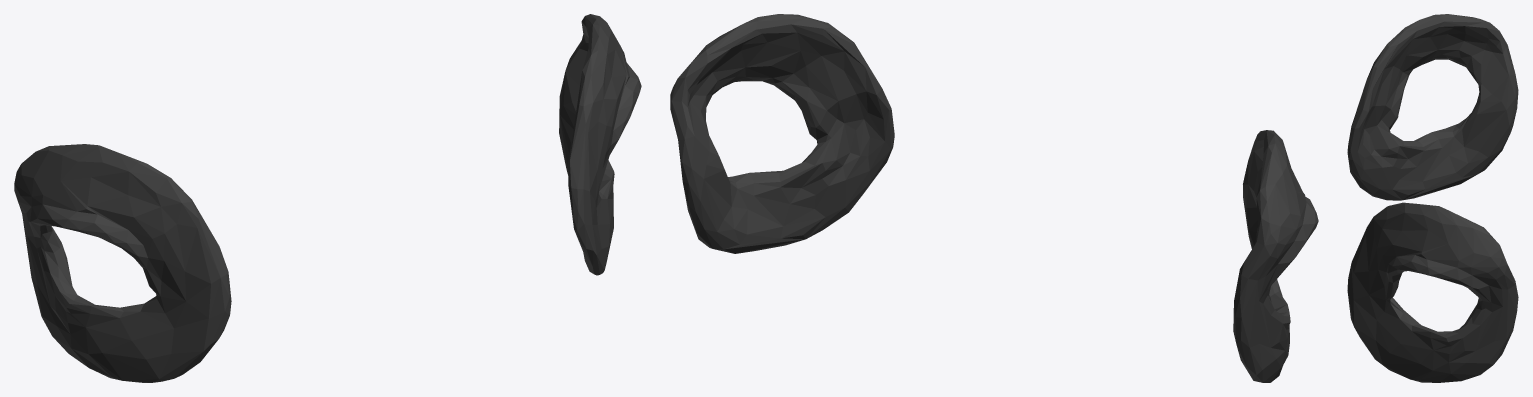
File: m_orbicularis_oculi.glb
3 views of the same model, side by side, from view 1: azimuth 30°, elevation 25°; view 2: azimuth 150°, elevation 25°; view 3: azimuth 270°, elevation 25° (orthographic). The views are drawn at different scales.
Visible parts, largest first — view 1: m_orbicularis_oculi; view 2: m_orbicularis_oculi; view 3: m_orbicularis_oculi.
Part boxes in pixels (x1=…): m_orbicularis_oculi: x1=14, y1=14, x2=641, y2=382; m_orbicularis_oculi: x1=670, y1=14, x2=1318, y2=382; m_orbicularis_oculi: x1=1347, y1=14, x2=1518, y2=382.
Size of the model in its own units: 0.0036 by 0.00132 by 0.00115.
Materials: 1 (1 with a texture image).
